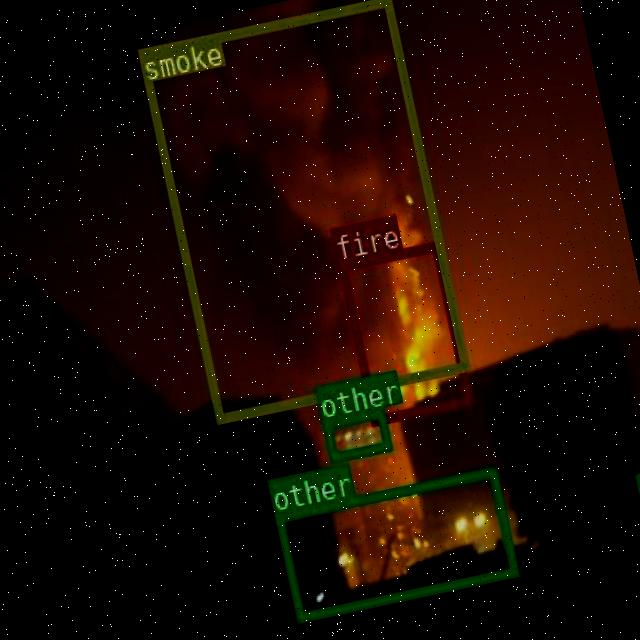fire: (334, 238, 470, 424)
smoke: (135, 0, 467, 423)
